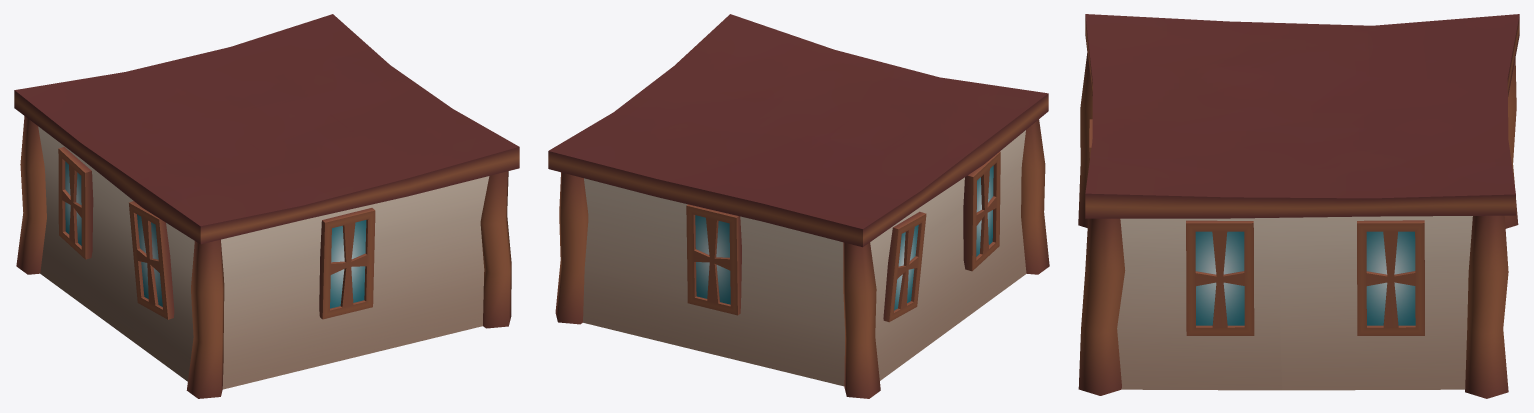
File: FloorA01.fbx
The picture shows the model from 3 angles, left to right: view 1: azimuth 30°, elevation 25°; view 2: azimuth 150°, elevation 25°; view 3: azimuth 270°, elevation 25°; orthographic projection. The views are drawn at different scales.
Visible parts, largest first — view 1: FloorA01; view 2: FloorA01; view 3: FloorA01.
Part boxes in pixels (x1,y1,x2,y2): FloorA01: (14, 14, 519, 398); FloorA01: (548, 14, 1049, 398); FloorA01: (1078, 14, 1519, 398).
Size of the model in its own units: 657 by 337 by 663.
1 material, 1 textured.
